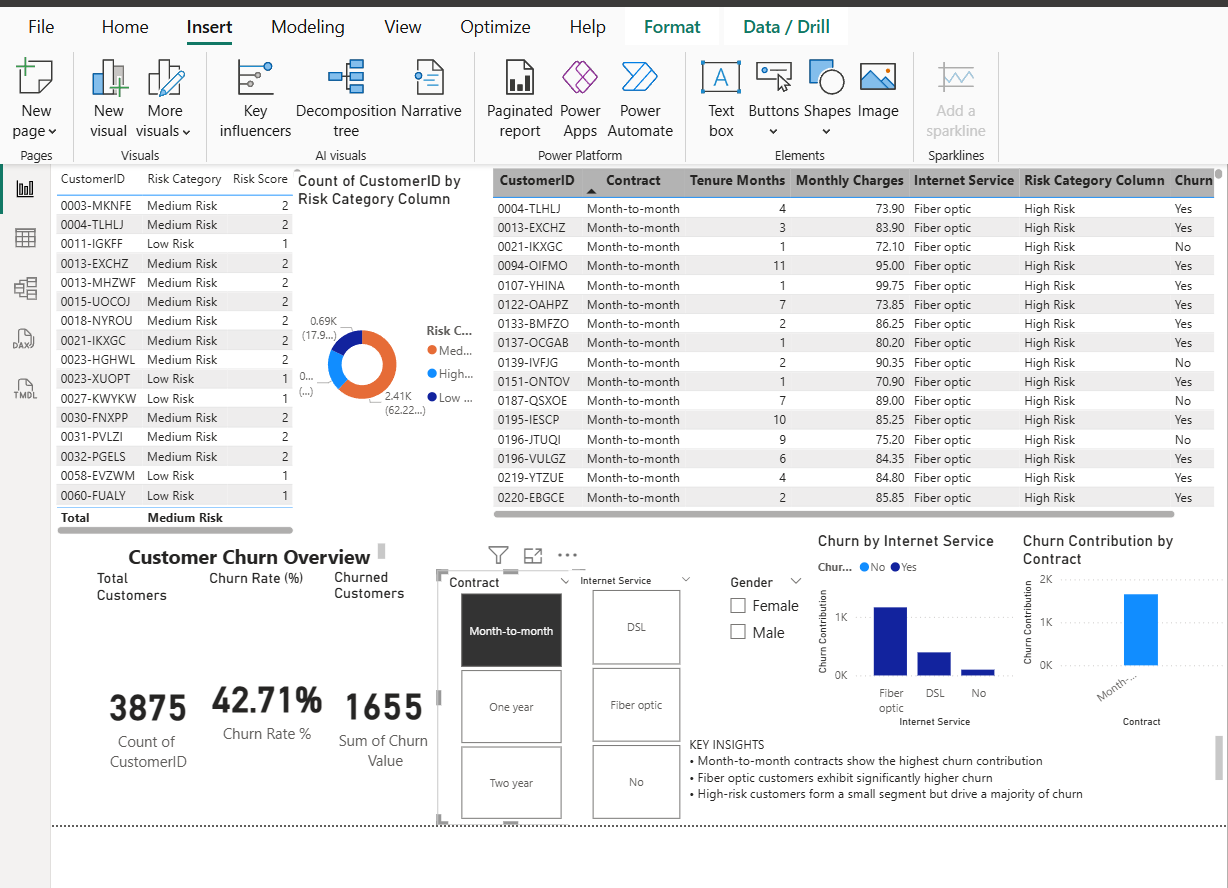

What the dashboard file says about the page in this screenshot:
{"tool":"powerbi","page":{"name":"Page 1","canvas":[1280,720],"ordinal":0},"visuals":[{"type":"tableEx","fields":{"Values":["churn.CustomerID","churn.Risk Category","churn.Risk Score"]},"box":[0,0,277.6,408.2],"z":0},{"type":"card","title":"Total Customers","fields":{"Values":["CountNonNull(churn.CustomerID)"]},"box":[44.9,442.2,122.4,277.6],"z":1000},{"type":"card","title":"Churned Customers","fields":{"Values":["Sum(churn.Churn Value)"]},"box":[303.4,440.8,117,278.9],"z":2000},{"type":"card","title":"Churn Rate (%)","fields":{"Values":["churn.Churn Rate %"]},"box":[167.3,442.2,136.1,277.6],"z":3000},{"type":"textbox","box":[78.9,408.2,289.8,32.7],"z":4000},{"type":"clusteredColumnChart","fields":{"Category":["churn.Contract"],"Y":["Sum(churn.Churn Value)"]},"box":[1053.1,400,227.2,217.7],"z":5000},{"type":"columnChart","title":"Churn by Internet Service","fields":{"Category":["churn.Internet Service"],"Y":["Sum(churn.Churn Value)"],"Series":["churn.Churn Label"]},"box":[829.9,400,223.1,217.7],"z":6000},{"type":"donutChart","fields":{"Category":["churn.Risk Category Column"],"Y":["CountNonNull(churn.CustomerID)"]},"box":[263.9,8.2,210.9,382.3],"z":7000},{"type":"tableEx","fields":{"Values":["churn.CustomerID","churn.Contract","churn.Tenure Months","churn.Monthly Charges","churn.Internet Service","churn.Risk Category Column","churn.Churn Label"]},"box":[474.8,0,805.4,390.5],"z":8000},{"type":"slicer","fields":{"Values":["churn.Contract"]},"box":[420.4,442.2,159.2,277.6],"z":9000},{"type":"slicer","fields":{"Values":["churn.Internet Service"]},"box":[563.3,442.2,145.6,277.6],"z":10000},{"type":"slicer","fields":{"Values":["churn.Gender"]},"box":[726.5,442.2,103.4,277.6],"z":11000},{"type":"textbox","box":[689.8,617.7,590.5,102],"z":11001}]}

Visuals, with their boxes on the page's 1280x720 design canvas (x1, y1, x2, y2). These are canvas units, not pixel positions in the 1228x888 screenshot, which may show the page scaled, cropped or inside an application window:
tableEx - churn.CustomerID x churn.Risk Category: {"left": 0, "top": 0, "right": 278, "bottom": 408}
"Total Customers" card: {"left": 45, "top": 442, "right": 167, "bottom": 720}
"Churned Customers" card: {"left": 303, "top": 441, "right": 420, "bottom": 720}
"Churn Rate (%)" card: {"left": 167, "top": 442, "right": 303, "bottom": 720}
textbox: {"left": 79, "top": 408, "right": 369, "bottom": 441}
clusteredColumnChart - churn.Contract x Sum(churn.Churn Value): {"left": 1053, "top": 400, "right": 1280, "bottom": 618}
"Churn by Internet Service" columnChart: {"left": 830, "top": 400, "right": 1053, "bottom": 618}
donutChart - churn.Risk Category Column x CountNonNull(churn.CustomerID): {"left": 264, "top": 8, "right": 475, "bottom": 390}
tableEx - churn.CustomerID x churn.Contract: {"left": 475, "top": 0, "right": 1280, "bottom": 390}
slicer - churn.Contract: {"left": 420, "top": 442, "right": 580, "bottom": 720}
slicer - churn.Internet Service: {"left": 563, "top": 442, "right": 709, "bottom": 720}
slicer - churn.Gender: {"left": 726, "top": 442, "right": 830, "bottom": 720}
textbox: {"left": 690, "top": 618, "right": 1280, "bottom": 720}
